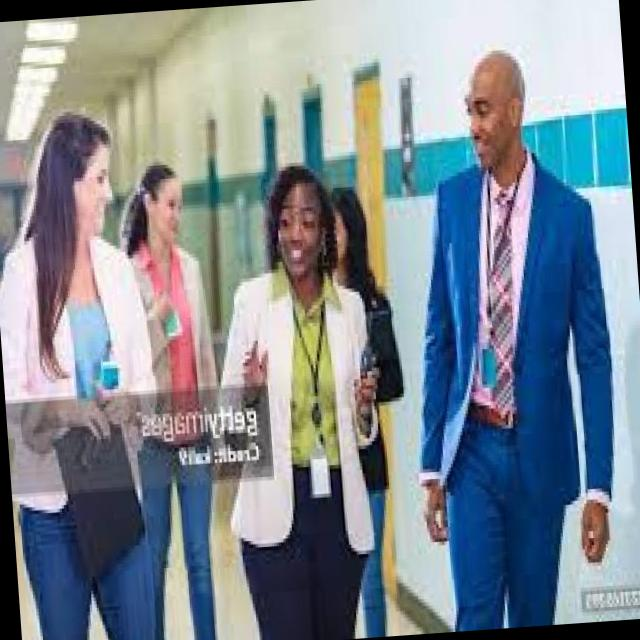id_card: (461, 152, 539, 398), (291, 280, 354, 498)
